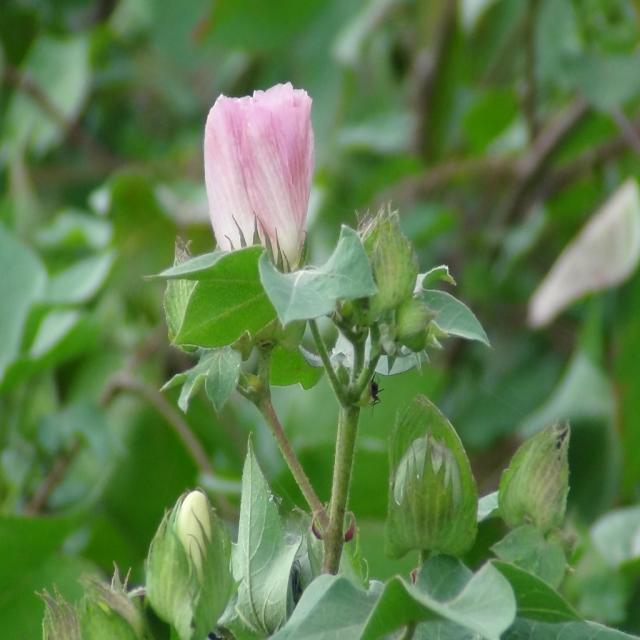Cotton Blossom: (203, 74, 320, 323)
Early Boll: (381, 402, 478, 574), (145, 482, 235, 640), (499, 418, 577, 554), (353, 200, 427, 341)
